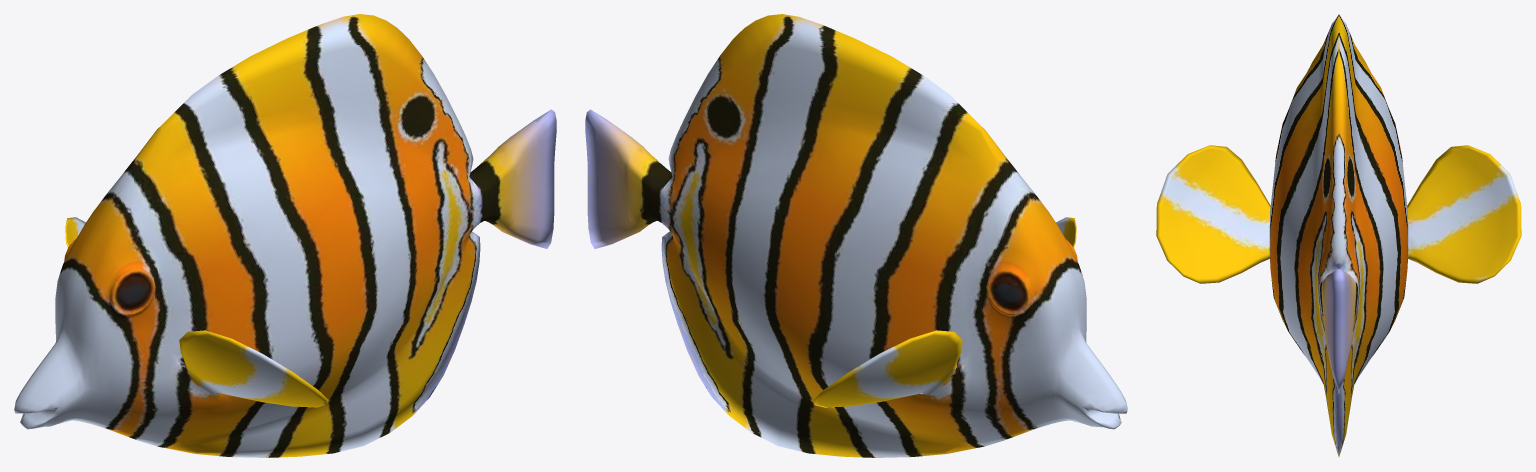
File: butterflyfish.glb
The picture shows the model from 3 angles, left to right: view 1: azimuth 30°, elevation 25°; view 2: azimuth 150°, elevation 25°; view 3: azimuth 270°, elevation 25°; orthographic projection. The views are drawn at different scales.
Visible parts, largest first — view 1: defaultMaterial; view 2: defaultMaterial; view 3: defaultMaterial.
Part boxes in pixels (x1,y1,x2,y2): defaultMaterial: [14, 14, 556, 457]; defaultMaterial: [585, 14, 1127, 457]; defaultMaterial: [1156, 14, 1521, 456].
Bounding box in the file's own units: 2 × 1.53 × 1.27.
Materials: 1 (1 with a texture image).
